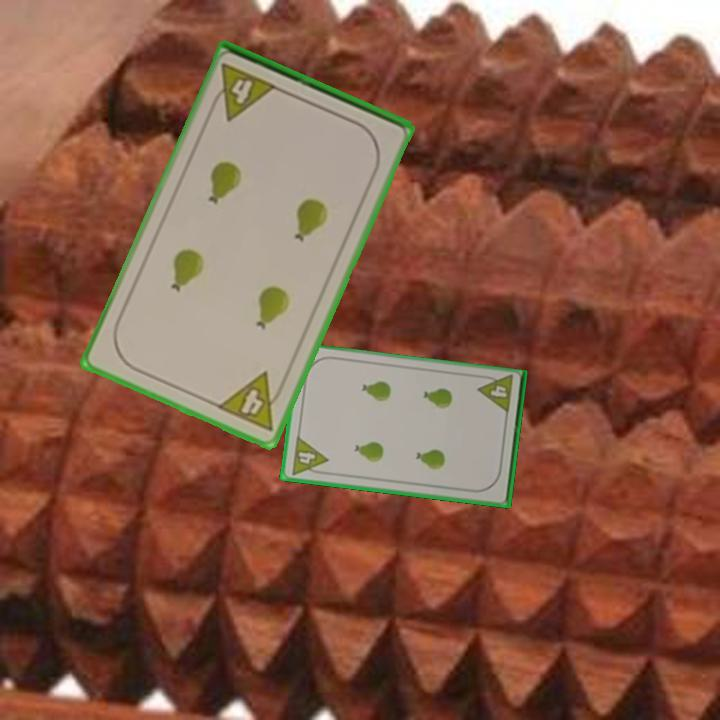4p: (213, 368, 290, 435), (206, 60, 280, 124), (287, 433, 331, 478), (475, 372, 516, 417)
